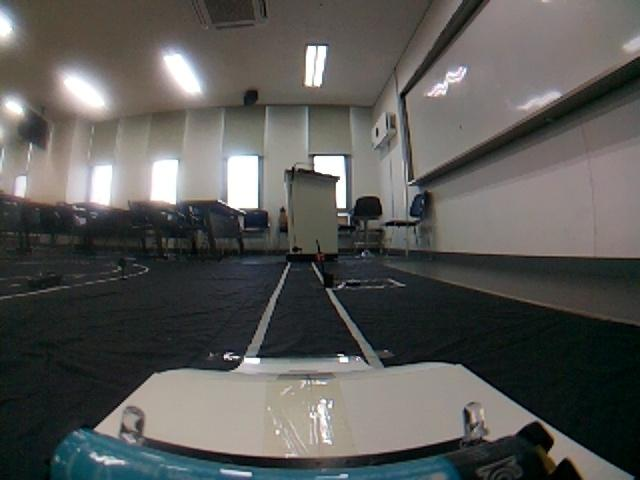hill_down: (2, 348, 640, 480)
